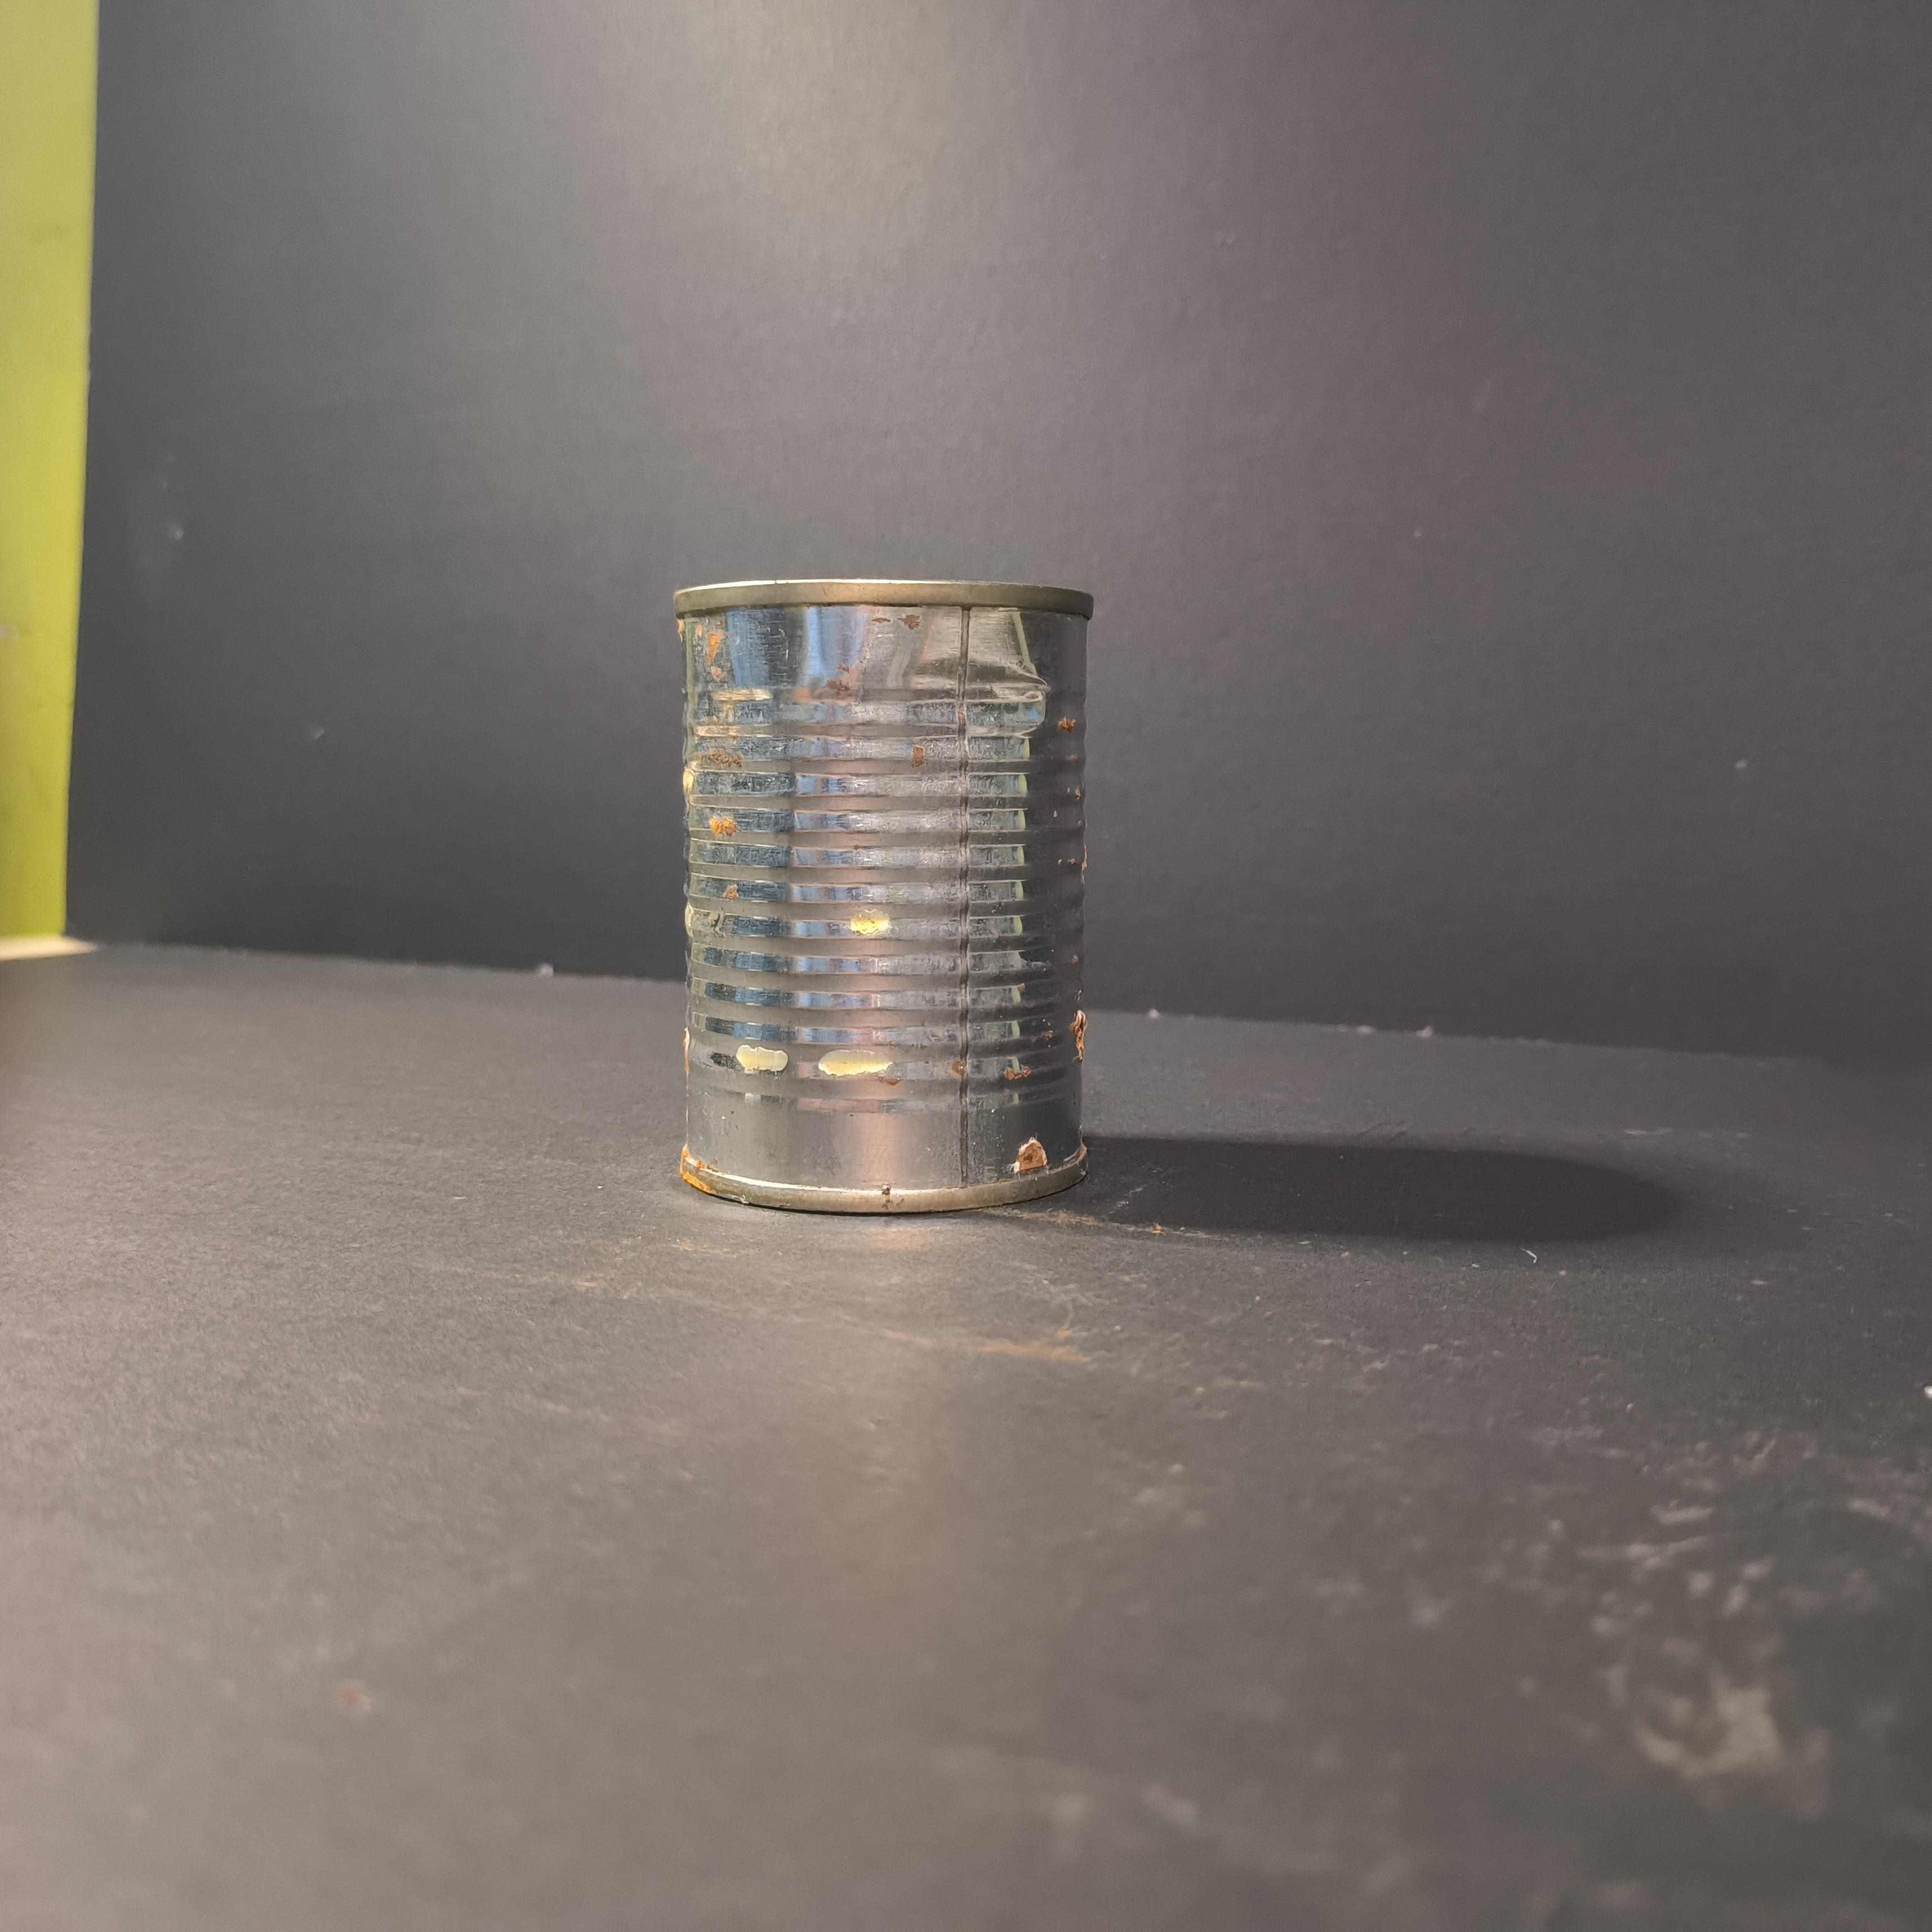Rusted: (648, 554, 1122, 1233)
